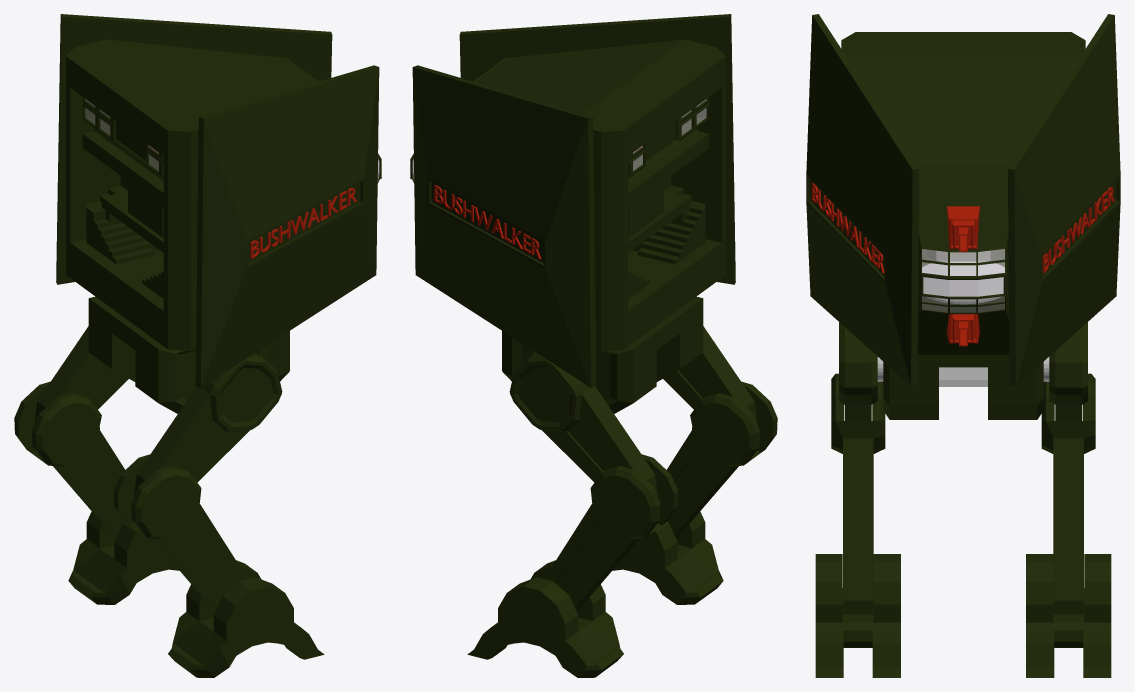
File: Mech03.fbx
3 views of the same model, side by side, from view 1: azimuth 30°, elevation 25°; view 2: azimuth 150°, elevation 25°; view 3: azimuth 270°, elevation 25° (orthographic). The views are drawn at different scales.
Visible parts, largest first — view 1: Cube, Cube.003, Cube.004, Cube.002, Cube.001, Text.001; view 2: Cube, Cube.003, Cube.004, Cube.002, Cube.001, Text; view 3: Cube, Cube.004, Cube.003, Cube.001, Cube.002, Cylinder, Text.001, Text.
Part boxes in pixels (box(x1,y1,x2,y2)): Cube: box(56, 14, 381, 387); Cube.003: box(14, 381, 247, 611); Cube.004: box(68, 511, 324, 677); Cube.002: box(34, 326, 282, 494); Cube.001: box(88, 296, 289, 413); Text.001: box(250, 188, 356, 258); Cube: box(410, 14, 735, 387); Cube.003: box(544, 381, 777, 611); Cube.004: box(467, 511, 723, 677); Cube.002: box(509, 326, 757, 494); Cube.001: box(502, 296, 703, 413); Text: box(434, 185, 541, 259); Cube: box(806, 14, 1120, 386); Cube.004: box(815, 554, 1111, 677); Cube.003: box(831, 373, 1095, 614); Cube.001: box(883, 354, 1043, 419); Cube.002: box(839, 322, 1087, 420); Cylinder: box(922, 262, 1004, 303); Text.001: box(811, 183, 884, 273); Text: box(1042, 187, 1114, 273).
Size of the model in its own units: 296 by 543 by 257.
